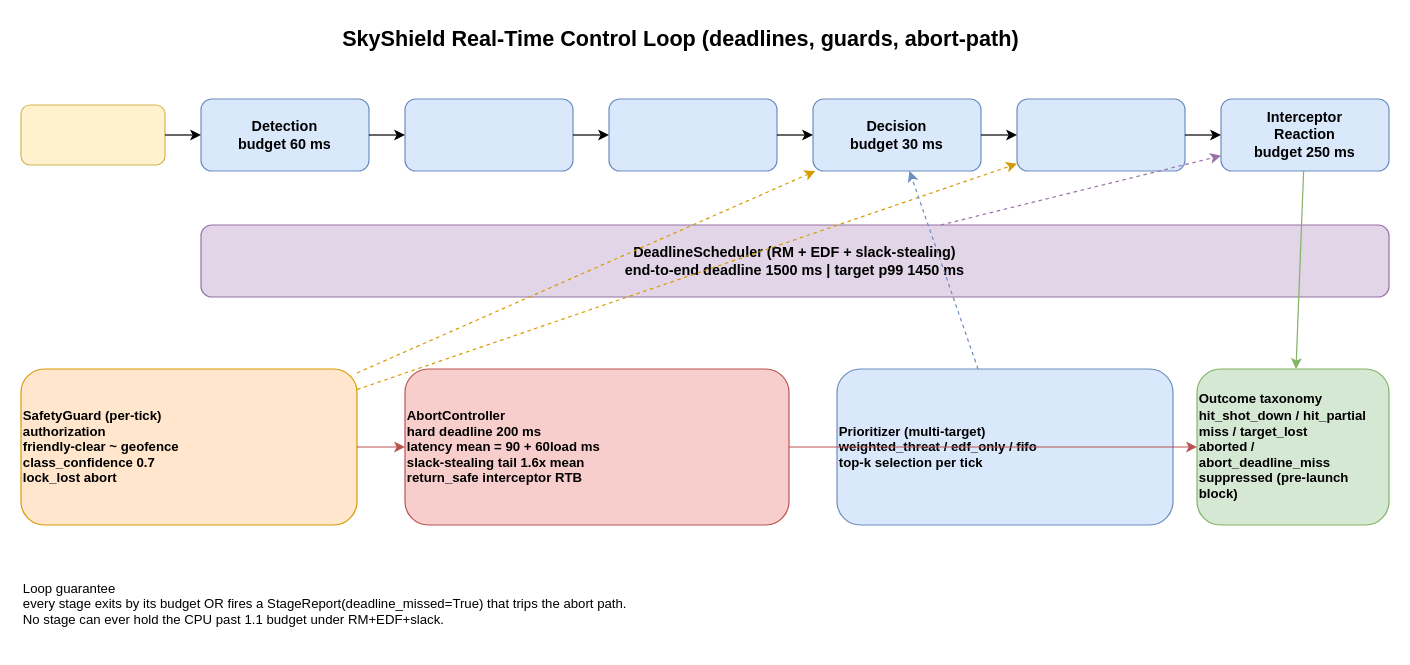
This 1410x665 diagram has some shape labels left out. The shapes that lost their labels are listed below. From the top down, each one's centre as x and y in pixels, then its label:
(92,134): t = 0 RadarPacket
(488,134): Track+Confirm budget 80 ms
(692,134): Fusion budget 25 ms
(1100,134): Launch budget 120 ms
